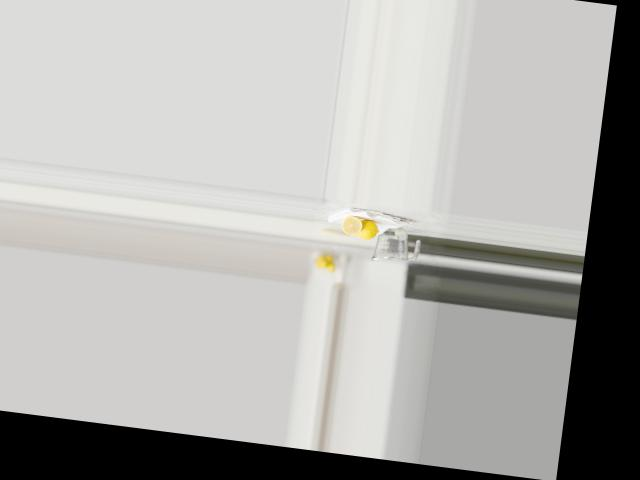lemon: (353, 218, 381, 242)
